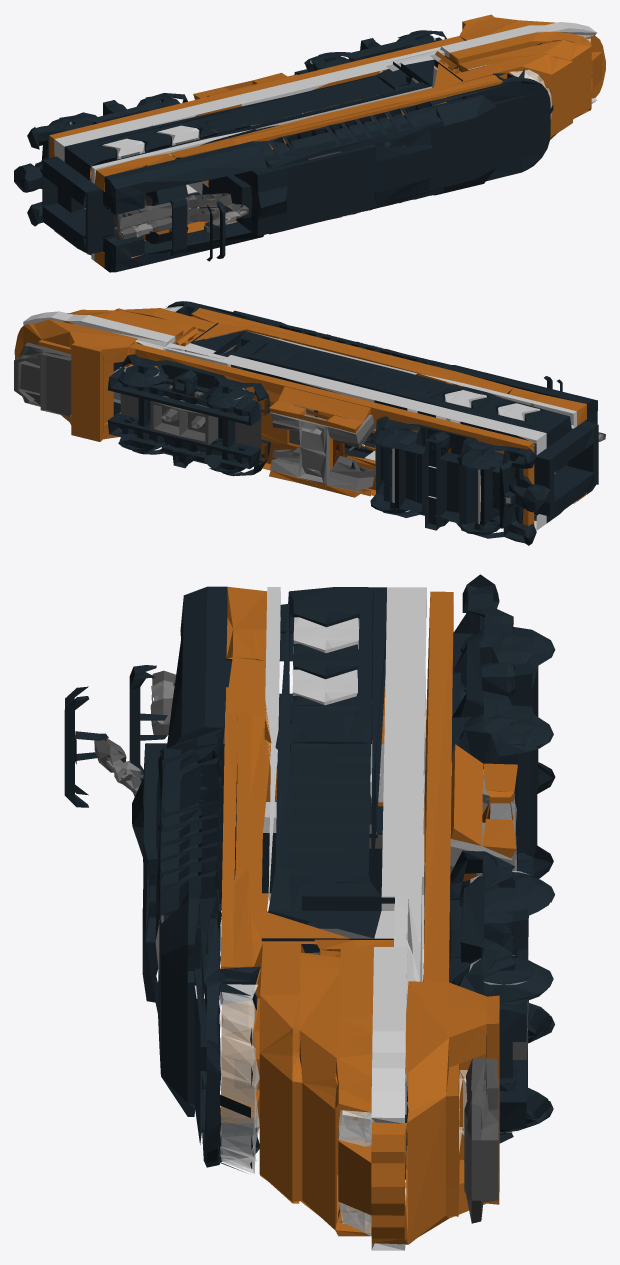
The model's file is locomotive.glb.
3 renders of one model, top to bottom at view 1: azimuth 30°, elevation 25°; view 2: azimuth 150°, elevation 25°; view 3: azimuth 270°, elevation 25°, orthographic. The views are drawn at different scales.
Bounding box in the file's own units: 305 × 52 × 118.
